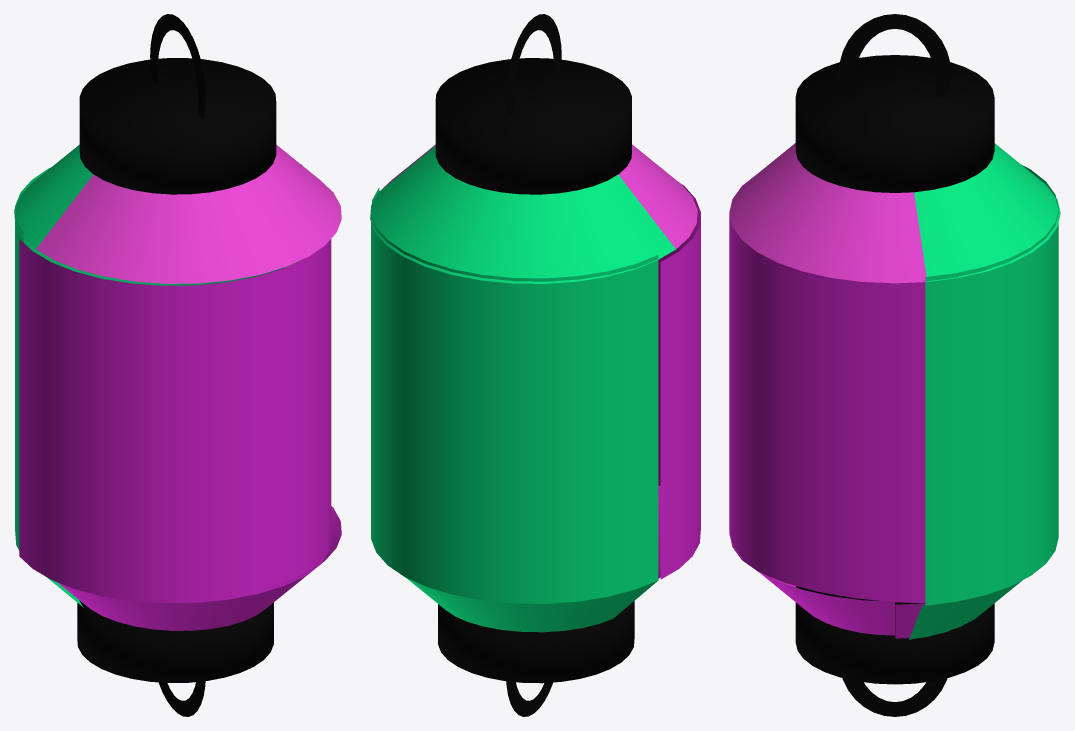
The picture shows the model from 3 angles, left to right: view 1: azimuth 30°, elevation 25°; view 2: azimuth 150°, elevation 25°; view 3: azimuth 270°, elevation 25°; orthographic projection.
Visible parts, largest first — view 1: 左下, 左上の上, 上蓋, 下蓋, 左下の下, 右上の上, 右下, 上取っ手, 下っ手; view 2: 右下, 右上の上, 上蓋, 左下, 下蓋, 右下の下, 左上の上, 上取っ手, 下っ手; view 3: 左下, 右下, 上蓋, 左上の上, 右上の上, 下蓋, 上取っ手, 左下の下, 右下の下, 下っ手, 直し下.
Boxes of the visible parts, x1,y1,x2,y2 form: 左下: (19,239,331,603); 左上の上: (36,145,341,283); 上蓋: (79,58,276,194); 下蓋: (77,600,273,682); 左下の下: (58,506,341,630); 右上の上: (14,144,93,248); 右下: (15,164,301,550); 上取っ手: (150,14,205,117); 下っ手: (158,681,205,716); 右下: (371,187,658,603); 右上の上: (370,146,675,283); 上蓋: (435,58,631,194); 左下: (658,183,700,579); 下蓋: (438,601,634,683); 右下の下: (406,577,658,632); 左上の上: (379,144,697,248); 上取っ手: (506,14,561,117); 下っ手: (506,681,553,716); 左下: (729,174,925,603); 右下: (925,165,1058,605); 上蓋: (795,55,994,192); 左上の上: (729,143,927,283); 右上の上: (914,143,1060,281); 下蓋: (795,586,994,684); 上取っ手: (838,14,951,96); 左下の下: (729,531,894,635); 右下の下: (909,580,1022,639); 下っ手: (842,678,947,716); 直し下: (895,603,927,638).
Bounding box in the file's own units: 202 × 468 × 200.
